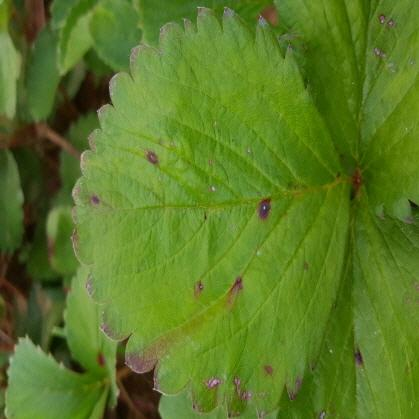Leaf Spot: (70, 5, 354, 418), (273, 188, 418, 418), (270, 0, 418, 223), (61, 264, 120, 408)
